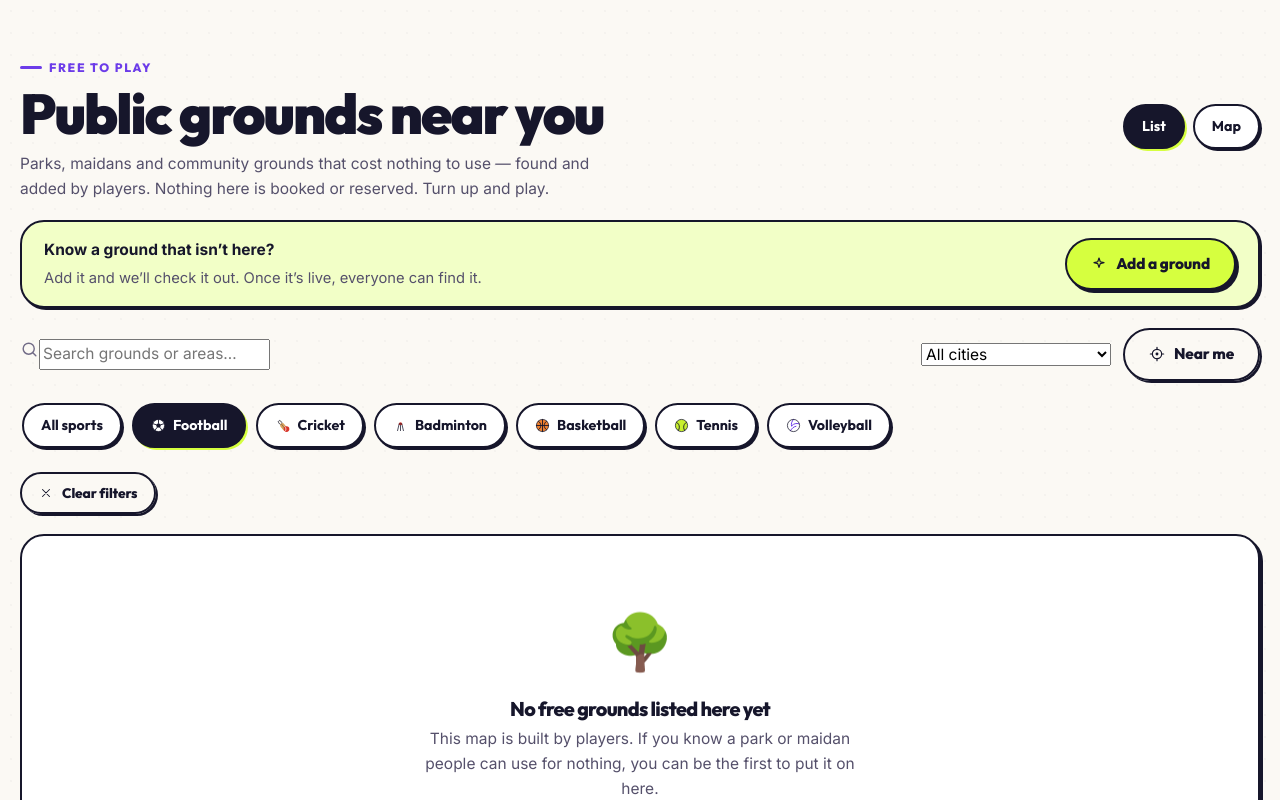
Test: Free grounds › clears search and sport, and leaves the remembered location alone
Type "park" into the field named "Search public grounds". click: (154, 354)
box: [39, 339, 270, 370]
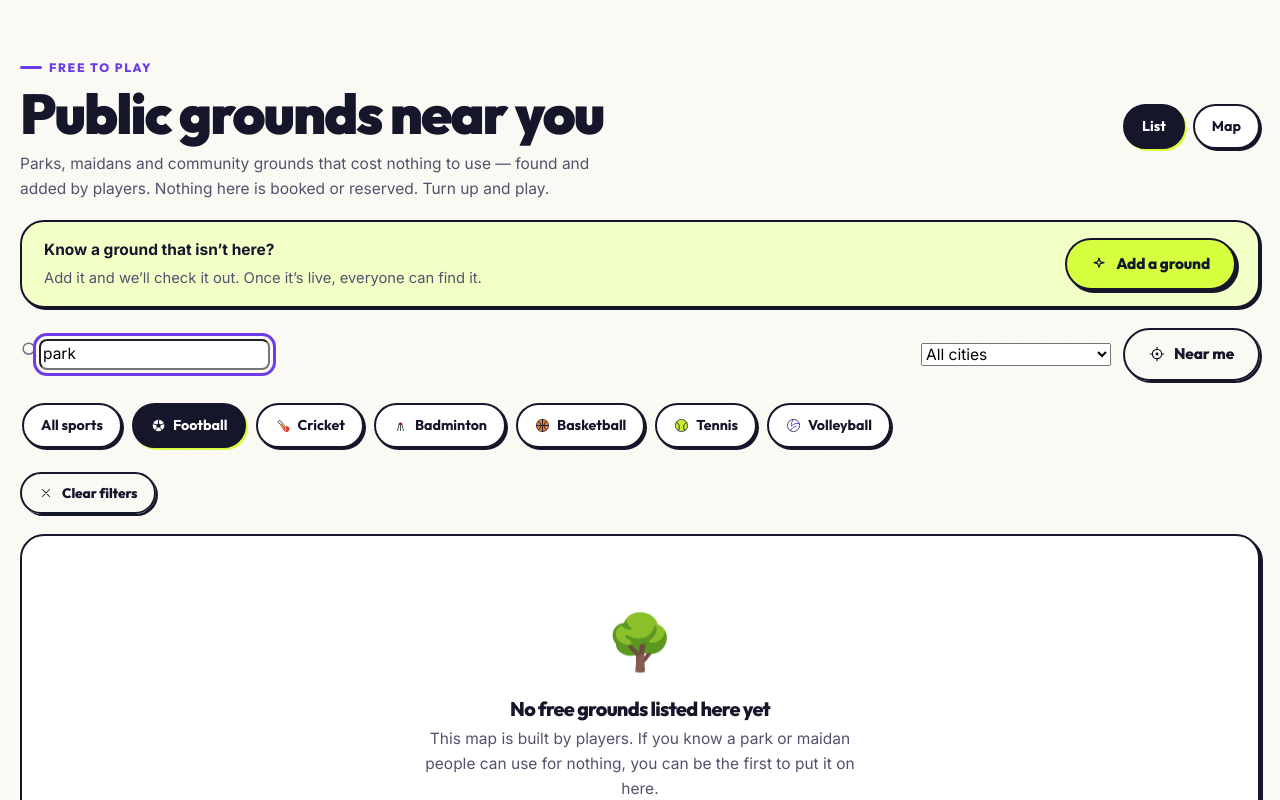
Click the button "Clear filters". click: (88, 492)
box: [20, 472, 156, 514]
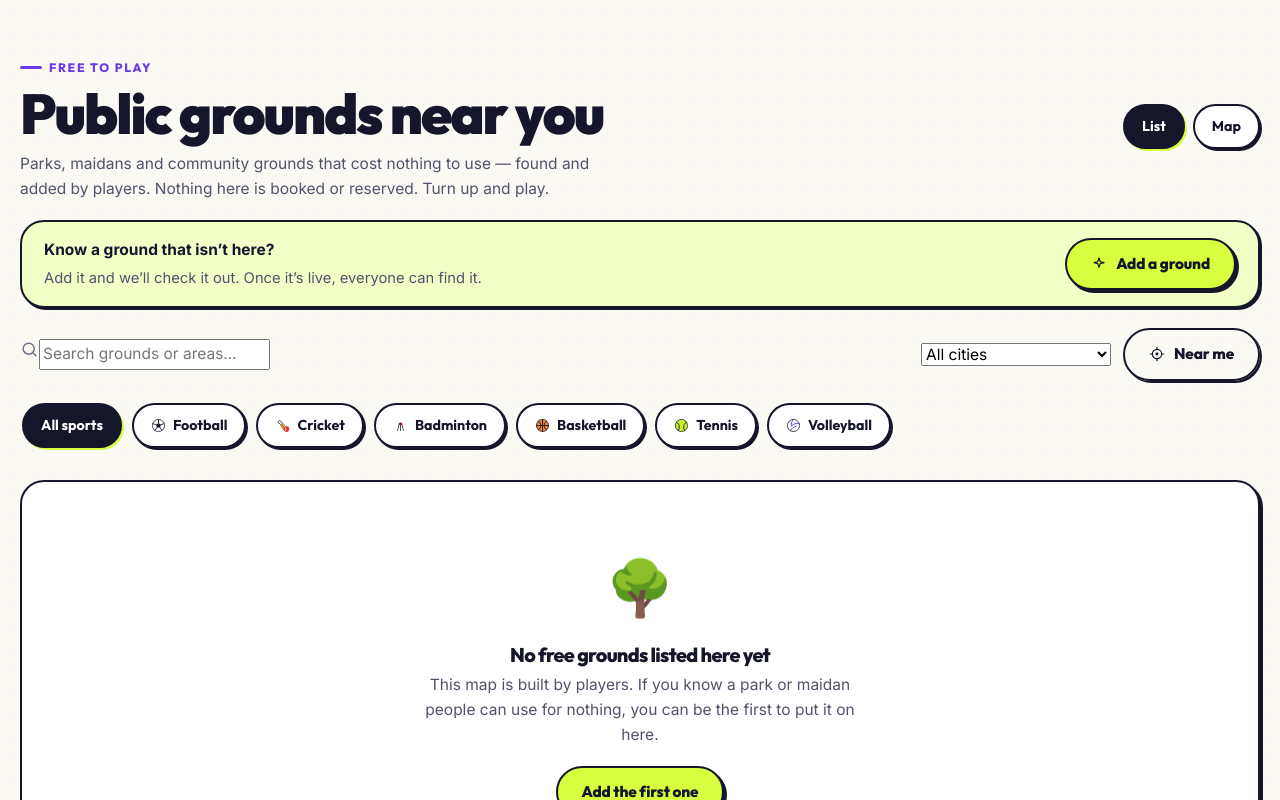
Expected: the field named "Search public grounds" is empty, [39, 339, 270, 370]
